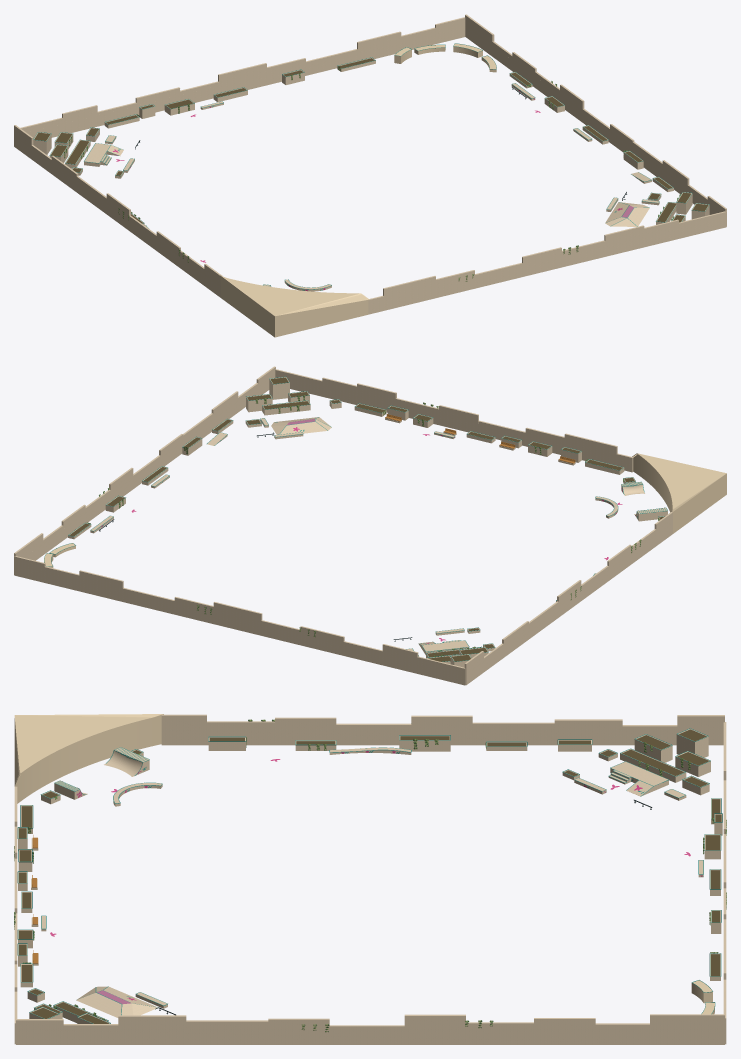
File: bola_nucleo.glb
3 views of the same model, one above another, from view 1: azimuth 30°, elevation 25°; view 2: azimuth 150°, elevation 25°; view 3: azimuth 270°, elevation 25° (orthographic). The views are drawn at different scales.
Visible parts, largest first — view 1: PER-MUE, PER-MUE-T01, NO-ST-M01, BK-BASAMENTO, PER-MUO-T03, NO-ST-DF01, LOBBY-P01, SO-DF01; view 2: PER-MUE, PER-MUE-T01, NO-ST-M01, BK-BASAMENTO, PER-MUO-T03, SO-DF01, NO-ST-DF01, LOBBY-P01; view 3: PER-MUE, NO-ST-M01, BK-BASAMENTO, PER-MUO-T03, PER-MUE-T01, NO-ST-DF01, SO-DF01, LOBBY-P01, V28-CAP-SE-M01.
Part boxes in pixels (x1,y1,x2,y2): PER-MUE: (368, 26, 726, 314); PER-MUE-T01: (27, 14, 588, 138); NO-ST-M01: (14, 81, 247, 297); BK-BASAMENTO: (178, 249, 474, 337); PER-MUO-T03: (145, 225, 522, 303); NO-ST-DF01: (33, 87, 247, 223); LOBBY-P01: (244, 43, 588, 126); SO-DF01: (563, 125, 709, 254); PER-MUE: (14, 366, 633, 574); PER-MUE-T01: (14, 467, 465, 685); NO-ST-M01: (261, 523, 672, 685); BK-BASAMENTO: (501, 435, 726, 560); PER-MUO-T03: (478, 420, 672, 574); SO-DF01: (142, 376, 495, 482); NO-ST-DF01: (299, 586, 581, 661); LOBBY-P01: (44, 480, 212, 614); PER-MUE: (14, 882, 724, 1044); NO-ST-M01: (161, 715, 726, 889); BK-BASAMENTO: (14, 714, 336, 883); PER-MUO-T03: (14, 714, 410, 890); PER-MUE-T01: (404, 850, 726, 1044); NO-ST-DF01: (399, 728, 726, 889); SO-DF01: (14, 891, 329, 1032); LOBBY-P01: (465, 889, 726, 1027); V28-CAP-SE-M01: (54, 747, 411, 803).
Size of the model in its own units: 105 by 4.88 by 105.
Materials: 6 (5 with a texture image).
